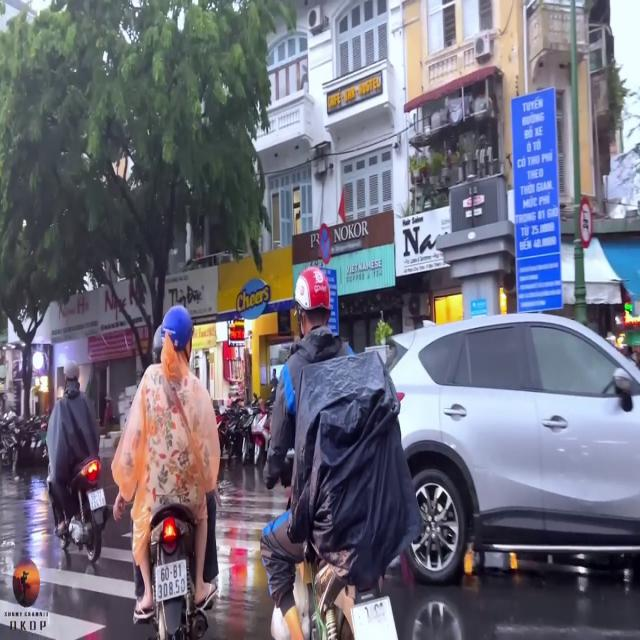bien_trang: (155, 560, 190, 596)
